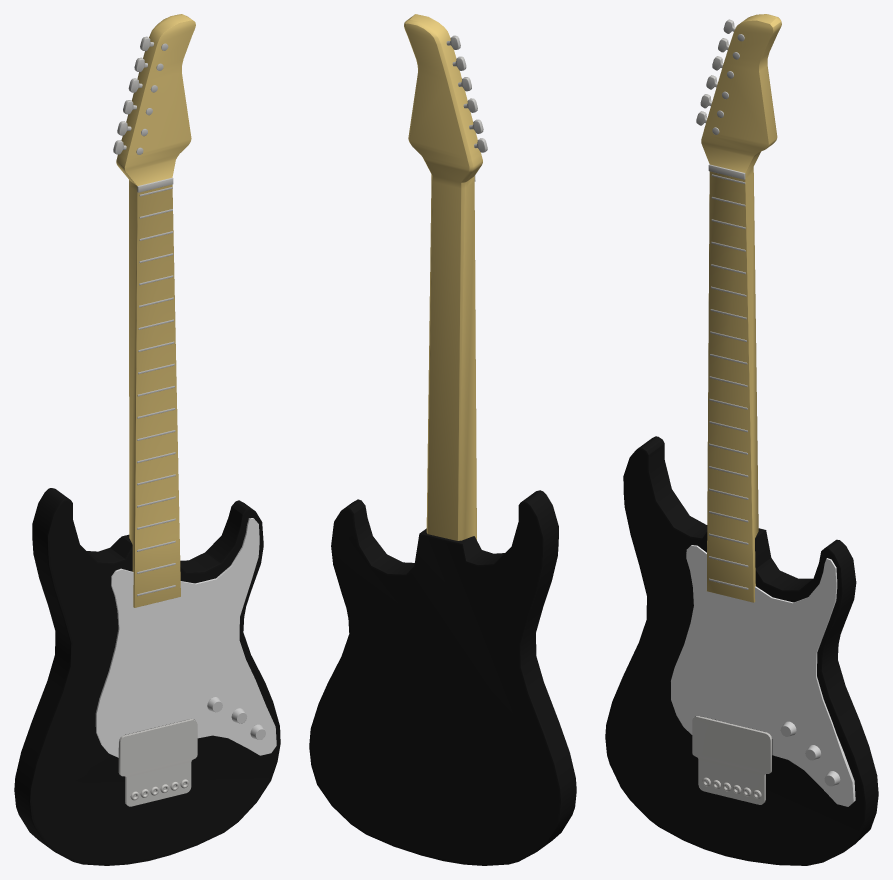
Rendered from 2024_Electric Guitar.fbx.
The picture shows the model from 3 angles, left to right: view 1: azimuth 30°, elevation 25°; view 2: azimuth 150°, elevation 25°; view 3: azimuth 330°, elevation 25°; orthographic projection. The views are drawn at different scales.
Visible parts, largest first — view 1: Cube; view 2: Cube; view 3: Cube.
Boxes of the visible parts, <box> form: Cube: <box>14,14,280,865</box>; Cube: <box>309,14,576,865</box>; Cube: <box>605,14,878,865</box>.
Bounding box in the file's own units: 121 × 378 × 17.01.
